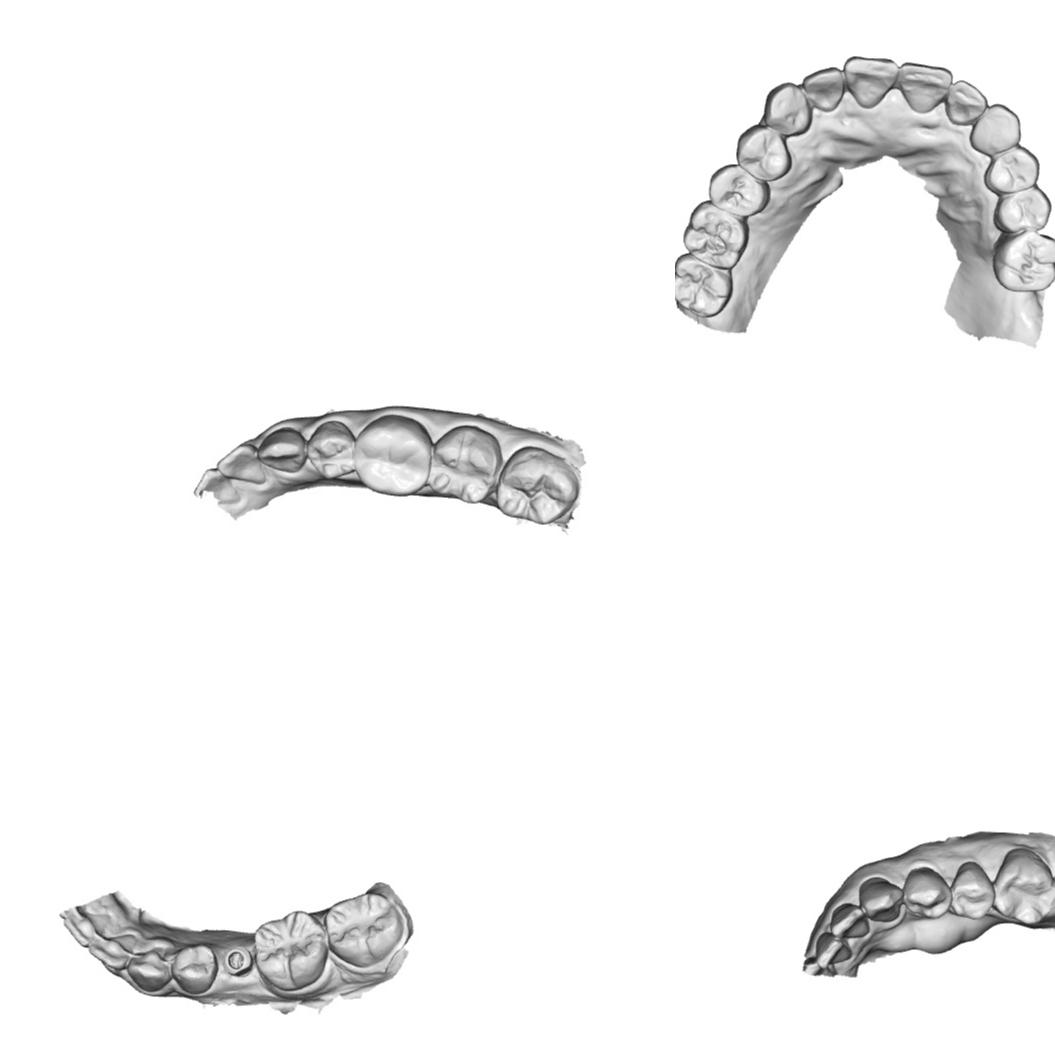canine: (968, 101, 1022, 157), (763, 79, 813, 136), (254, 426, 304, 475), (124, 946, 172, 992), (858, 875, 904, 922)
implant: (221, 944, 254, 978)
incisor: (842, 54, 900, 110), (898, 61, 953, 115), (214, 441, 265, 488), (801, 64, 846, 114), (944, 78, 988, 127), (86, 932, 138, 972), (62, 910, 112, 948), (814, 931, 854, 970), (830, 902, 870, 938)
molar: (493, 444, 580, 526), (425, 422, 506, 505), (324, 890, 406, 970), (252, 908, 329, 992), (353, 415, 432, 496), (992, 847, 1055, 925), (682, 200, 748, 268), (990, 227, 1055, 292), (675, 251, 734, 319)
premolar: (735, 123, 793, 183), (707, 164, 771, 218), (991, 184, 1053, 236), (304, 418, 354, 481), (983, 146, 1041, 195), (950, 860, 996, 920), (901, 866, 952, 919), (169, 943, 219, 996)
